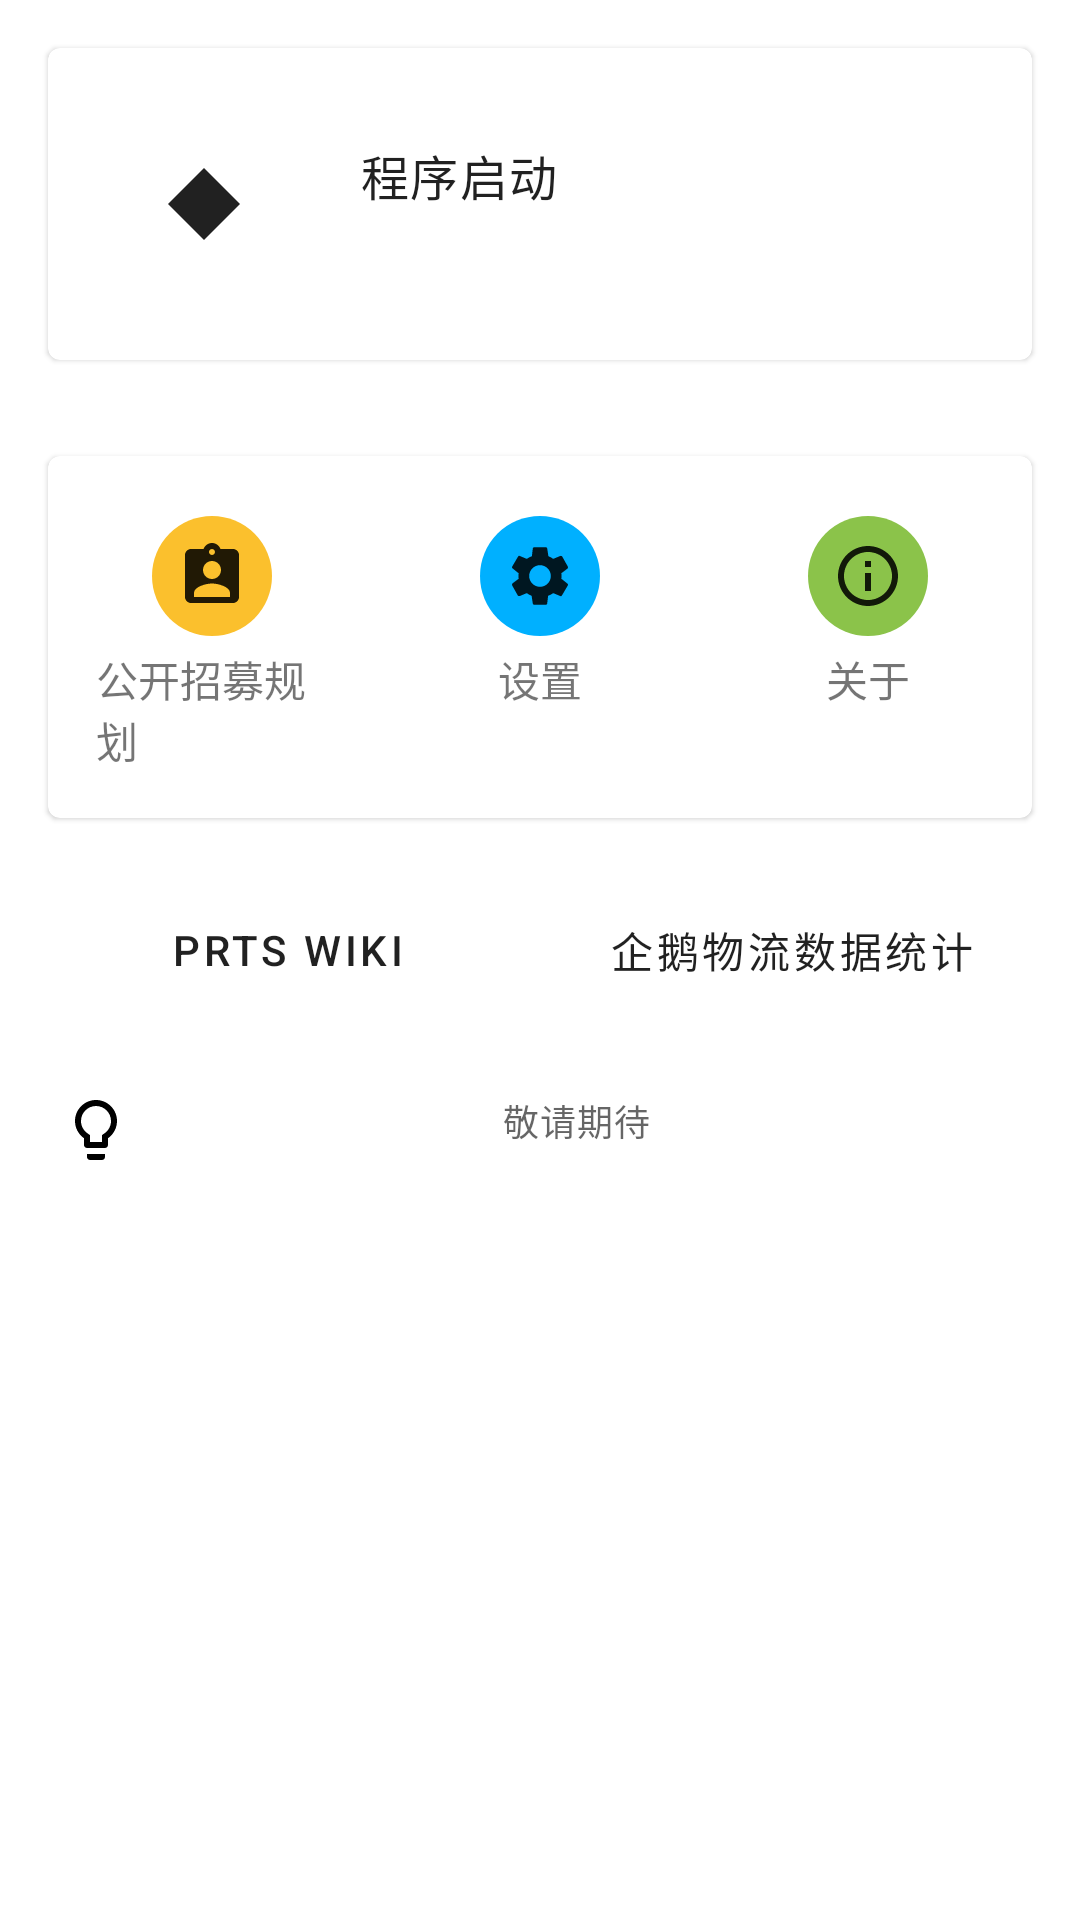

Named icons in this screenshot (1080 × 1920) and their bounding boxes, (x1, y1, x2, y2):
info: (808, 516, 928, 636)
